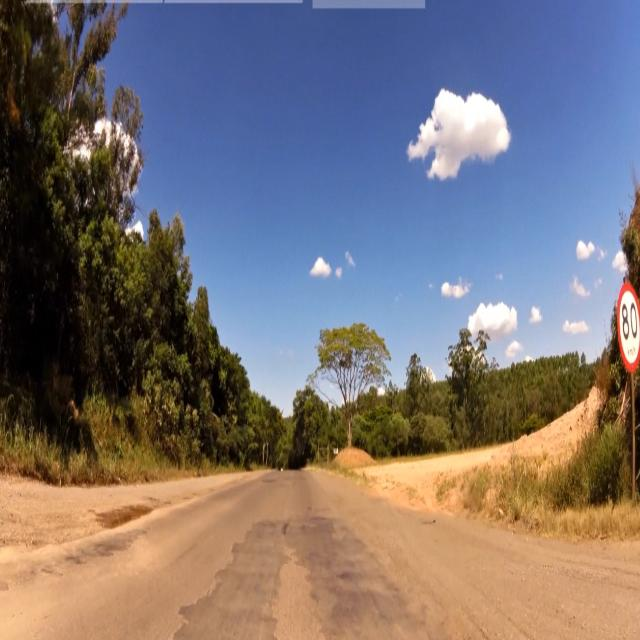R-19: (615, 282, 640, 378)
